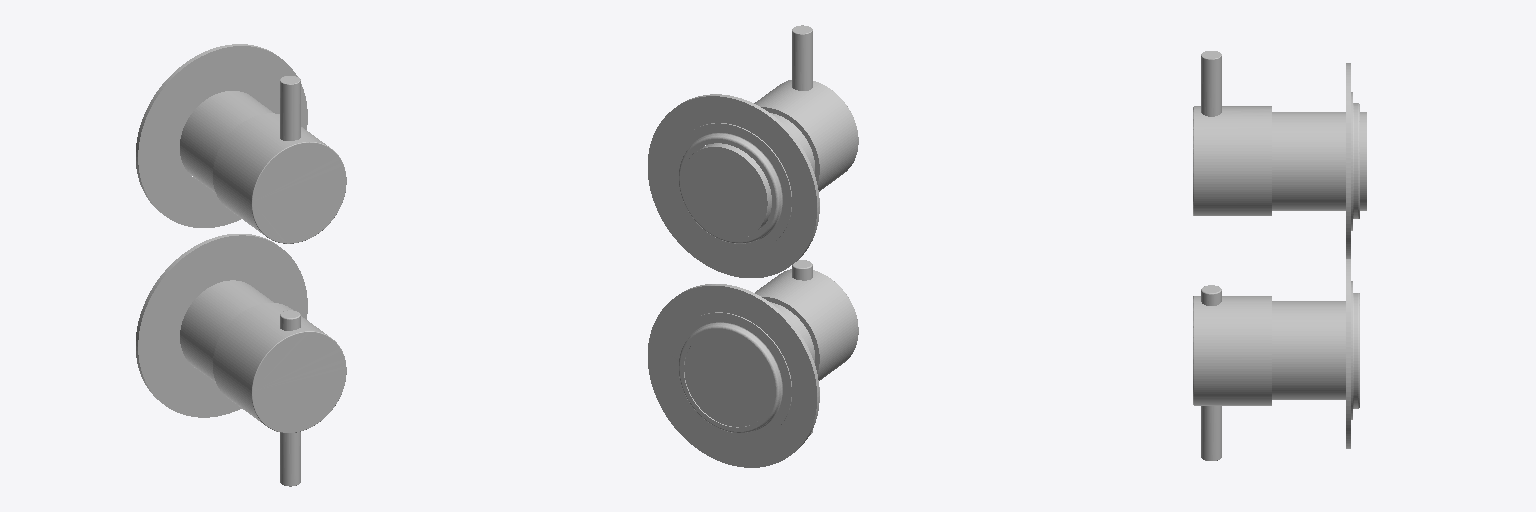
Rendered from MTV22TS.obj.
3 views of the same model, side by side, from view 1: azimuth 30°, elevation 25°; view 2: azimuth 150°, elevation 25°; view 3: azimuth 270°, elevation 25° (orthographic).
Parts seen in each view (by area): view 1: MTV22TS; view 2: MTV22TS; view 3: MTV22TS.
Boxes of the visible parts, <box> form: MTV22TS: <box>136,44,346,486</box>; MTV22TS: <box>648,25,858,467</box>; MTV22TS: <box>1193,51,1366,460</box>.
Size of the model in its own units: 75 by 170 by 66.5.